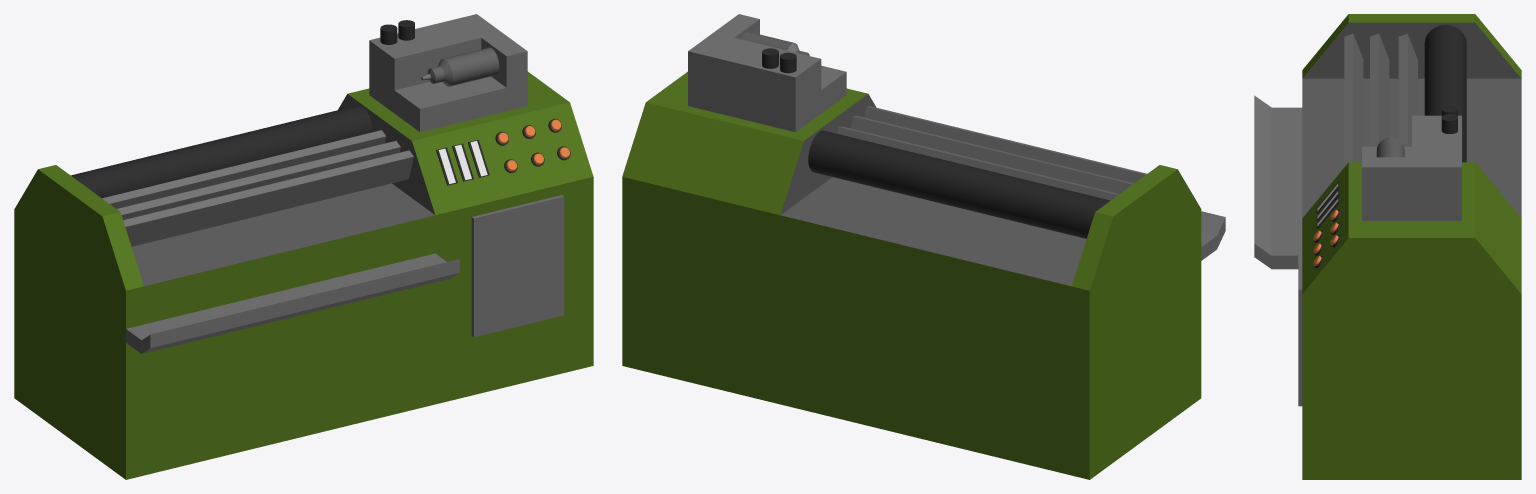
Rendered from machine3.fbx.
3 renders of one model, left to right at view 1: azimuth 30°, elevation 25°; view 2: azimuth 150°, elevation 25°; view 3: azimuth 270°, elevation 25°, orthographic.
Parts seen in each view (by area): view 1: Machine3; view 2: Machine3; view 3: Machine3.
Boxes of the visible parts, left/top/right/bottom form: Machine3: left=14, top=14, right=593, bottom=479; Machine3: left=622, top=14, right=1225, bottom=479; Machine3: left=1254, top=14, right=1521, bottom=479.
Size of the model in its own units: 200 by 101 by 129.
